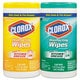Wipes: (1, 1, 42, 79), (40, 1, 78, 79)
